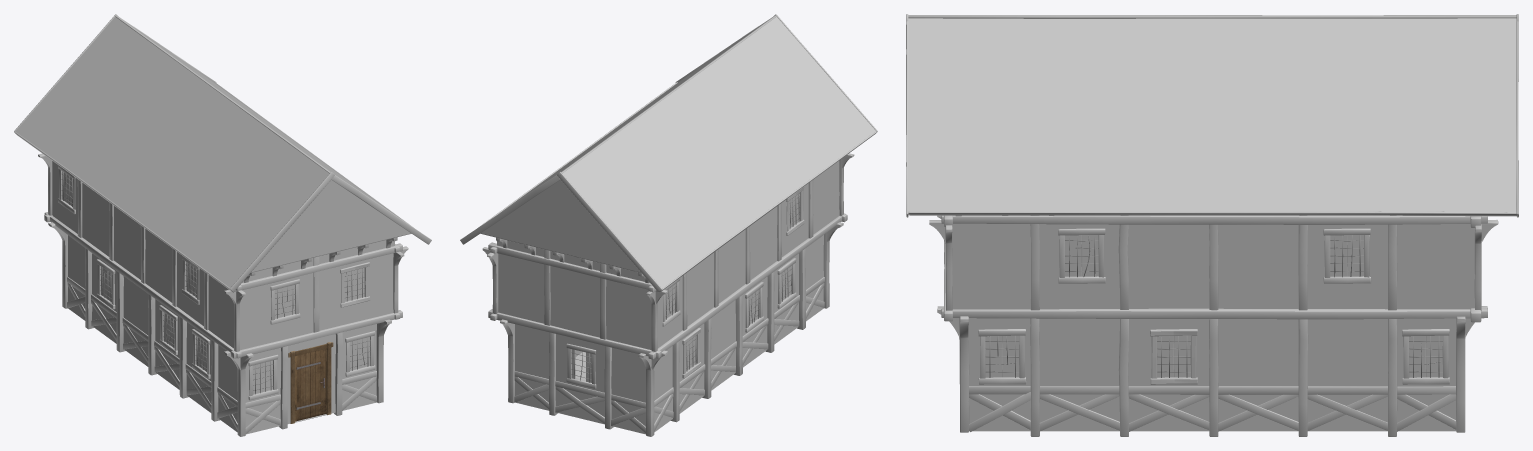
File: SM_House_01.FBX
3 views of the same model, side by side, from view 1: azimuth 30°, elevation 25°; view 2: azimuth 150°, elevation 25°; view 3: azimuth 270°, elevation 25° (orthographic). The views are drawn at different scales.
Visible parts, largest first — view 1: SM_House_01_Roof, SM_House_01_Beams, SM_House_01_Wall, SM_House_01_Boards, SM_Door_01, SM_House_01_SteelCage, SM_Door_01_Frame; view 2: SM_House_01_Roof, SM_House_01_Wall, SM_House_01_Beams, SM_House_01_Boards, SM_House_01_SteelCage; view 3: SM_House_01_Roof, SM_House_01_Wall, SM_House_01_Beams, SM_House_01_SteelCage, SM_Window_02_Shutter_Left007, SM_Window_02_Shutter_Right007, SM_Window_02_Shutter_Left010, SM_Window_02_Shutter_Right011, SM_Window_02_Shutter_Right008, SM_Window_02_Shutter_Right009, SM_Window_02_Shutter_Right010, SM_Window_02_Shutter_Left009 (+2 smaller).
Boxes of the visible parts, x1,y1,x2,y2 form: SM_House_01_Roof: (15, 17, 389, 287); SM_House_01_Beams: (14, 14, 431, 436); SM_House_01_Wall: (52, 161, 394, 434); SM_House_01_Boards: (251, 180, 411, 272); SM_Door_01: (296, 348, 326, 420); SM_House_01_SteelCage: (61, 172, 370, 394); SM_Door_01_Frame: (288, 342, 333, 423); SM_House_01_Roof: (502, 17, 875, 288); SM_House_01_Wall: (497, 161, 839, 434); SM_House_01_Beams: (460, 14, 877, 436); SM_House_01_Boards: (480, 180, 640, 380); SM_House_01_SteelCage: (571, 193, 800, 382); SM_House_01_Roof: (908, 18, 1516, 212); SM_House_01_Wall: (952, 223, 1474, 431); SM_House_01_Beams: (906, 14, 1518, 436); SM_House_01_SteelCage: (985, 235, 1442, 377); SM_Window_02_Shutter_Left007: (985, 336, 1002, 377); SM_Window_02_Shutter_Right007: (1002, 335, 1019, 377); SM_Window_02_Shutter_Left010: (1330, 235, 1347, 276); SM_Window_02_Shutter_Right011: (1081, 235, 1098, 276); SM_Window_02_Shutter_Right008: (1174, 335, 1190, 377); SM_Window_02_Shutter_Right009: (1426, 335, 1442, 377); SM_Window_02_Shutter_Right010: (1347, 235, 1363, 276); SM_Window_02_Shutter_Left009: (1409, 336, 1425, 377).
Bounding box in the file's own units: 7.32 × 9.14 × 13.58.
